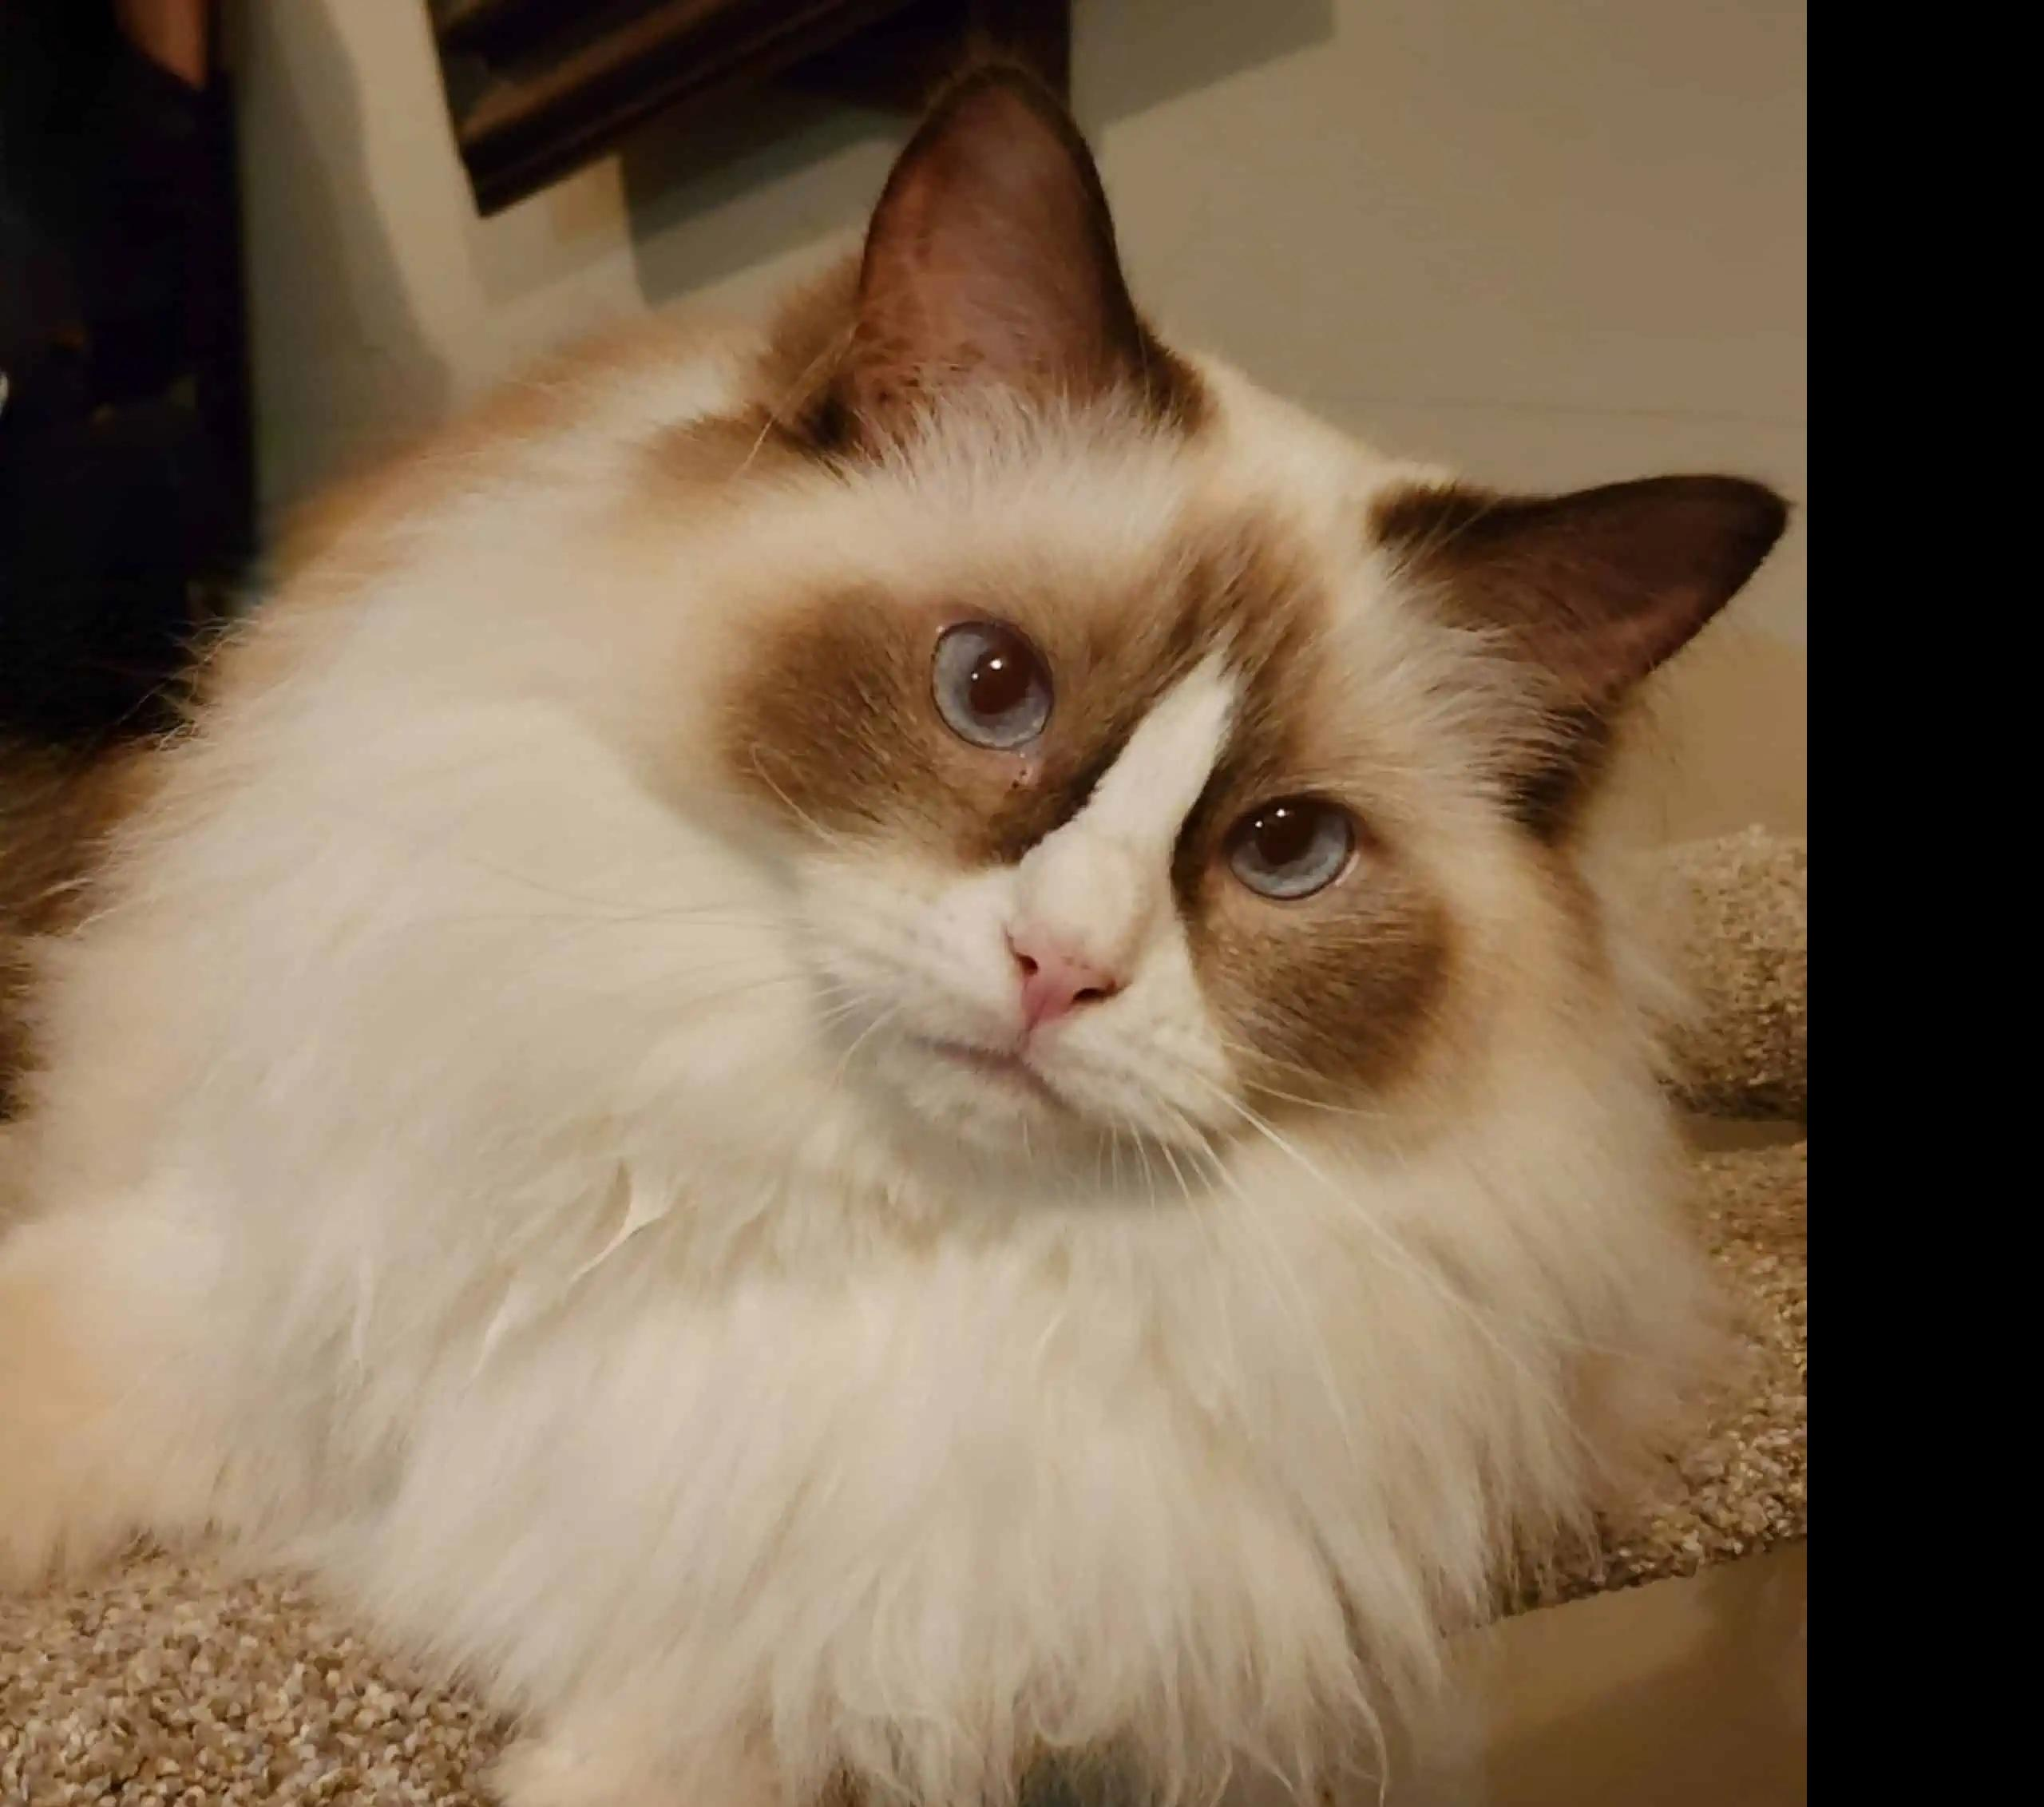ragdoll: (661, 51, 1807, 1223)
